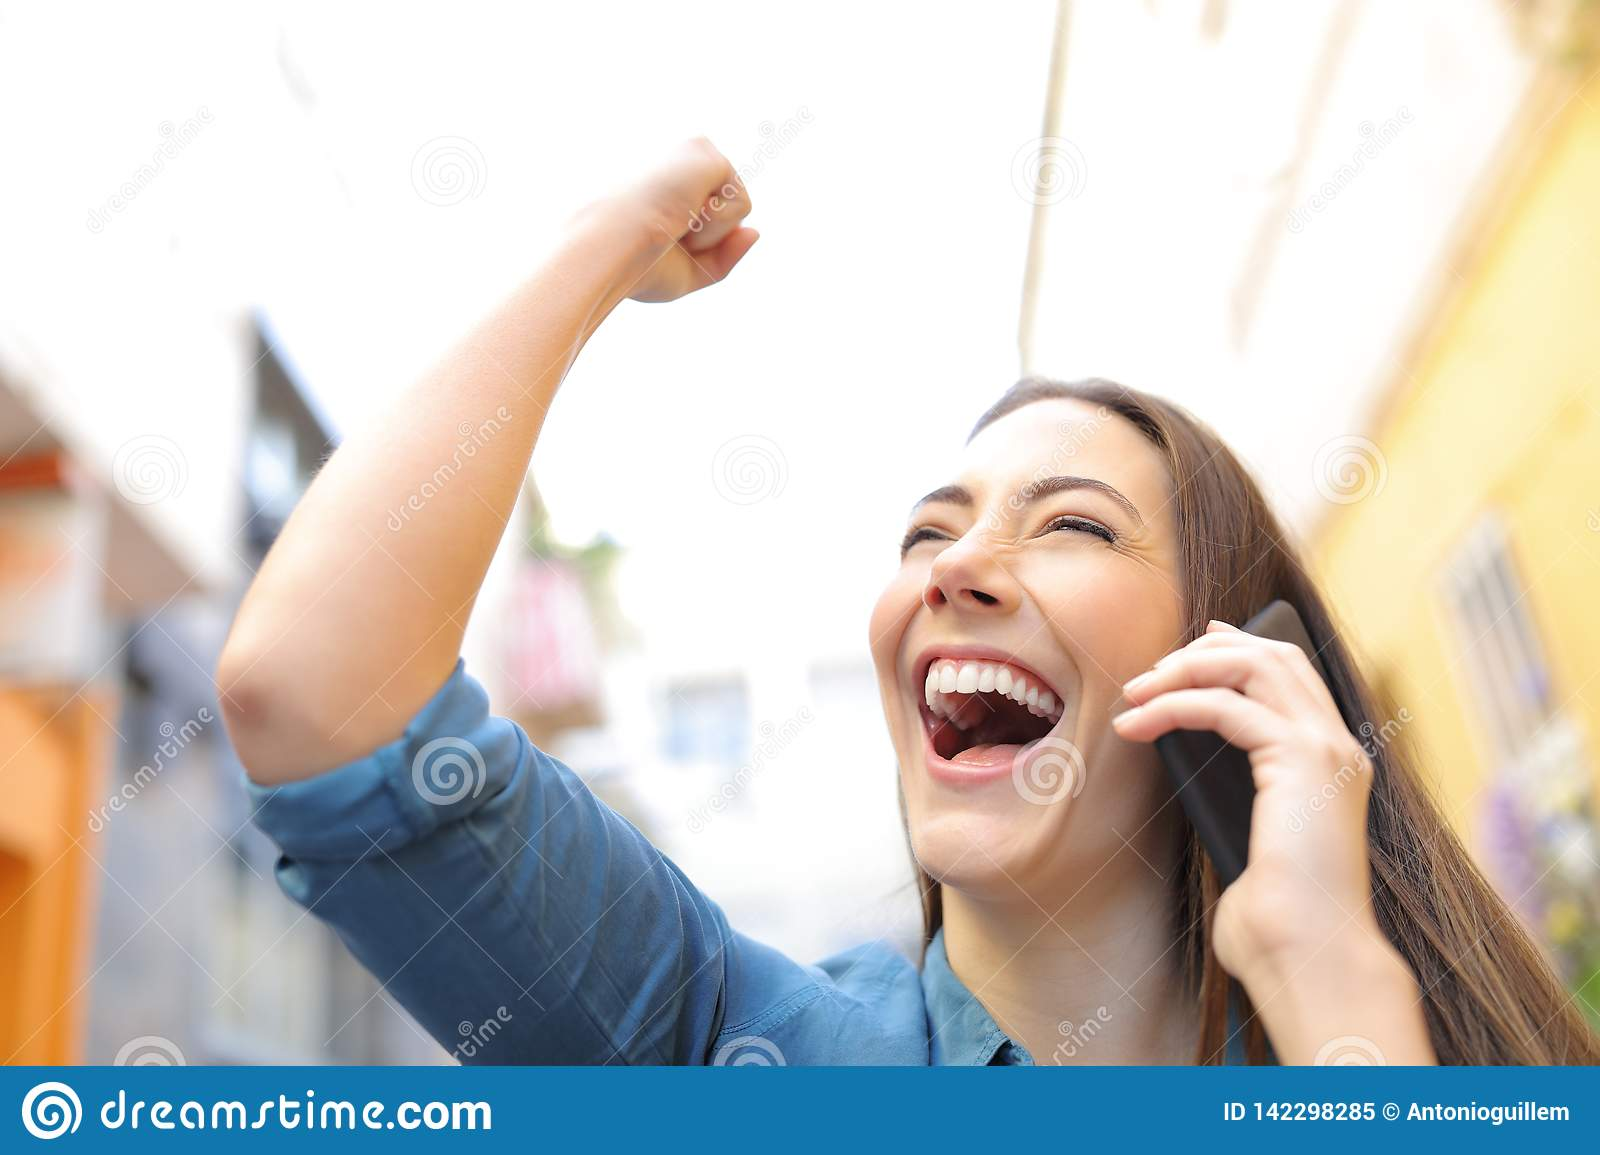phone: (1154, 597, 1345, 892)
talk: (870, 476, 1419, 1007)
